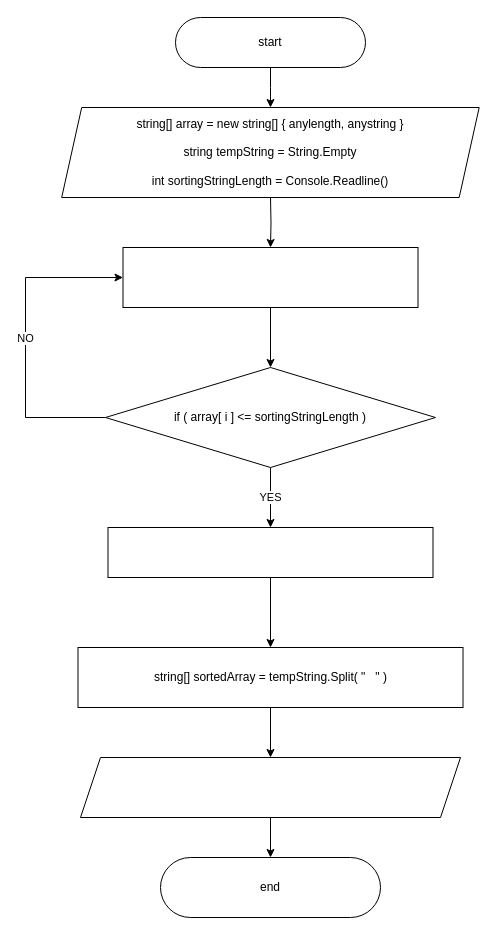
The diagram is 497 pixels wide and 935 high, and some of its shapes have lost their labels. Here are the shapes that lost their labels. From the top down, the centre of each, then its label:
(270,277): int i = 0; i < array.Length; i++
(270,552): tempString = tempString + array[ i ] + " "
(270,787): return sortedArray
